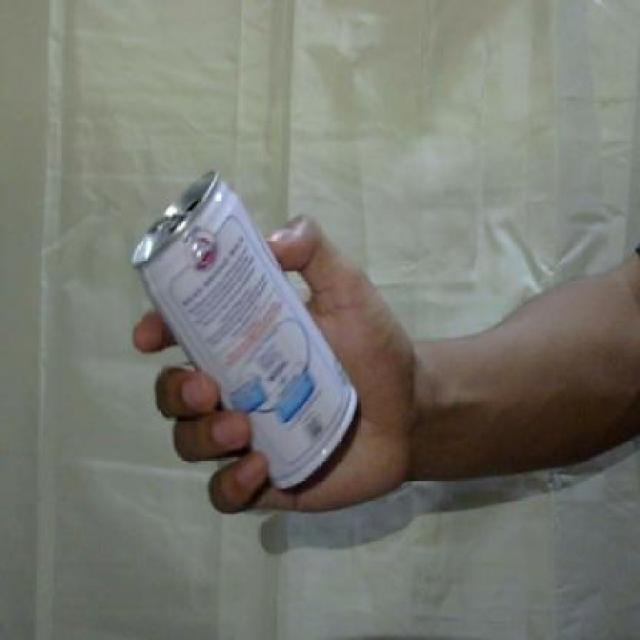Metal: (120, 156, 371, 501)
